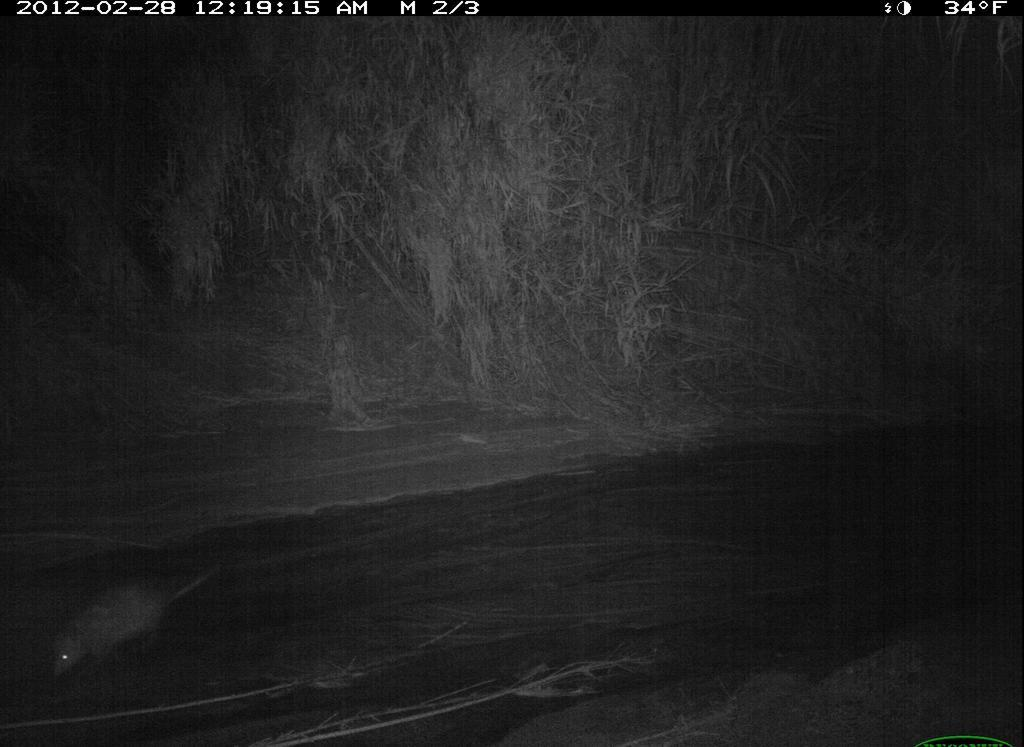opossum: (29, 547, 223, 683)
